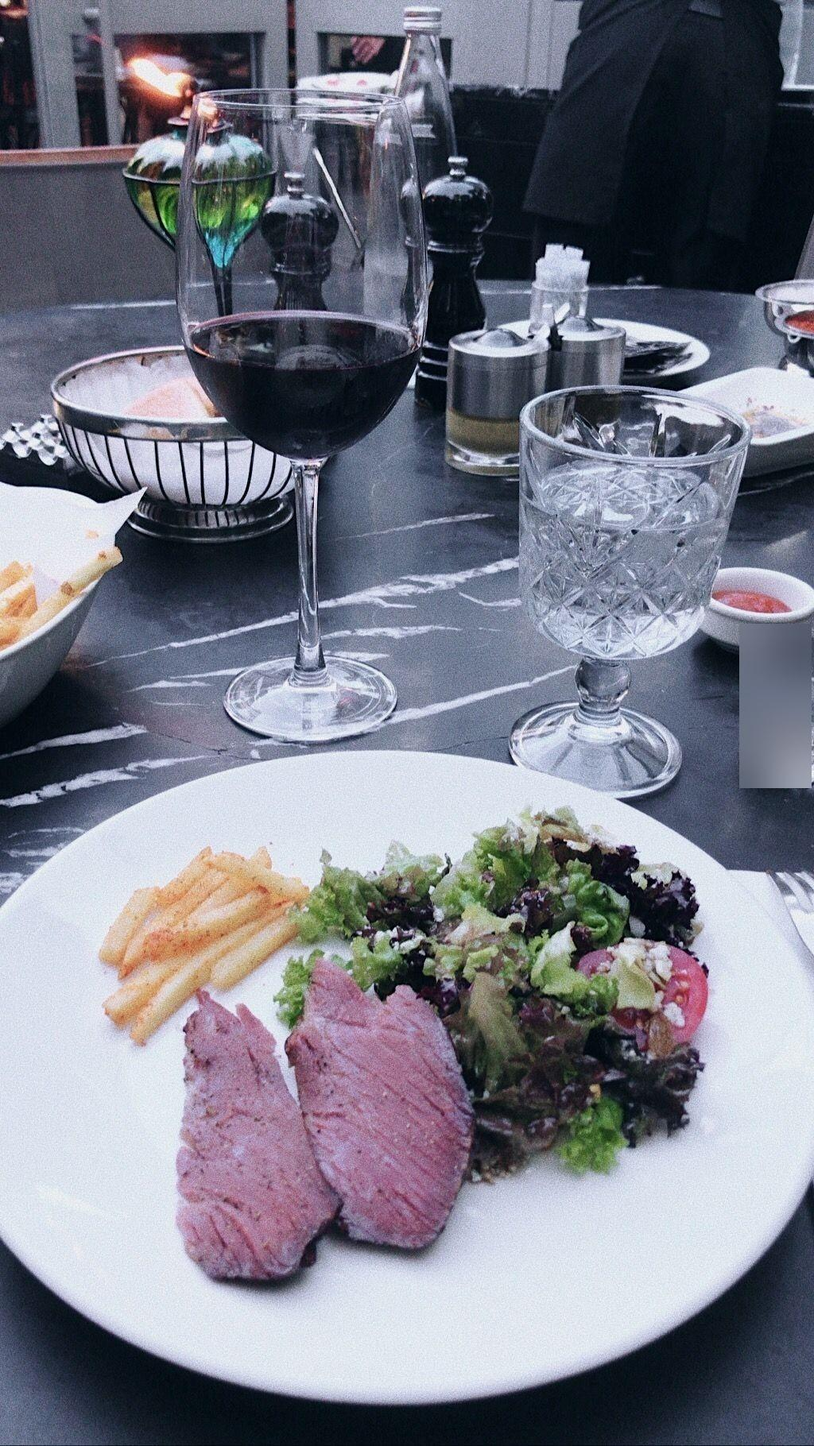glass-wine: (173, 77, 428, 745), (507, 383, 748, 798)
